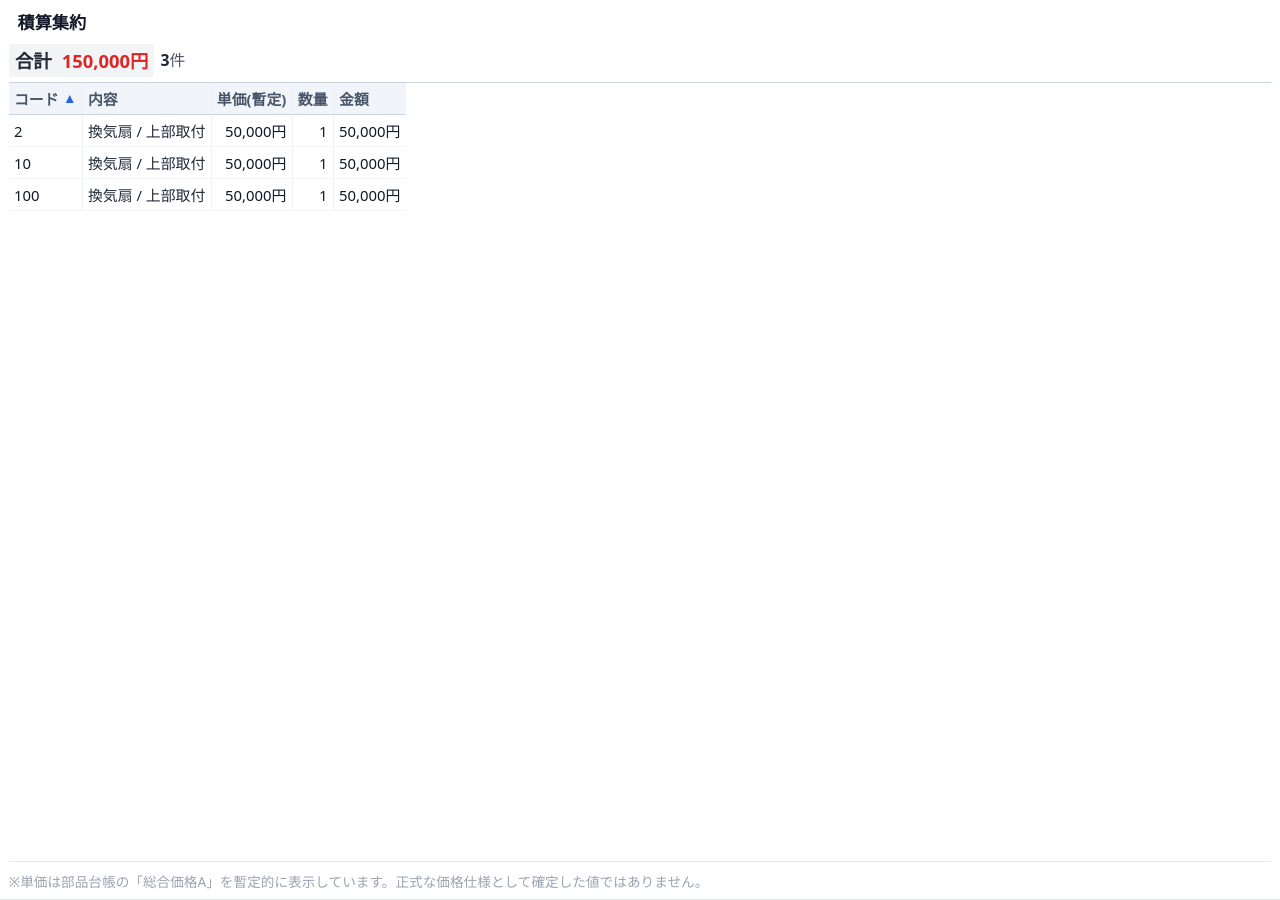
Test case: EstimateAggregation: ソート機能 (PR #2 追加修正指示: 積算集約テーブルにソート機能を追加) › sorts the code column numerically, not lexicographically (4章: "2" < "10" < "100")
Click the button with aria-label "コードでソート" at [45, 99], box x1=14 y1=88 x2=76 y2=110
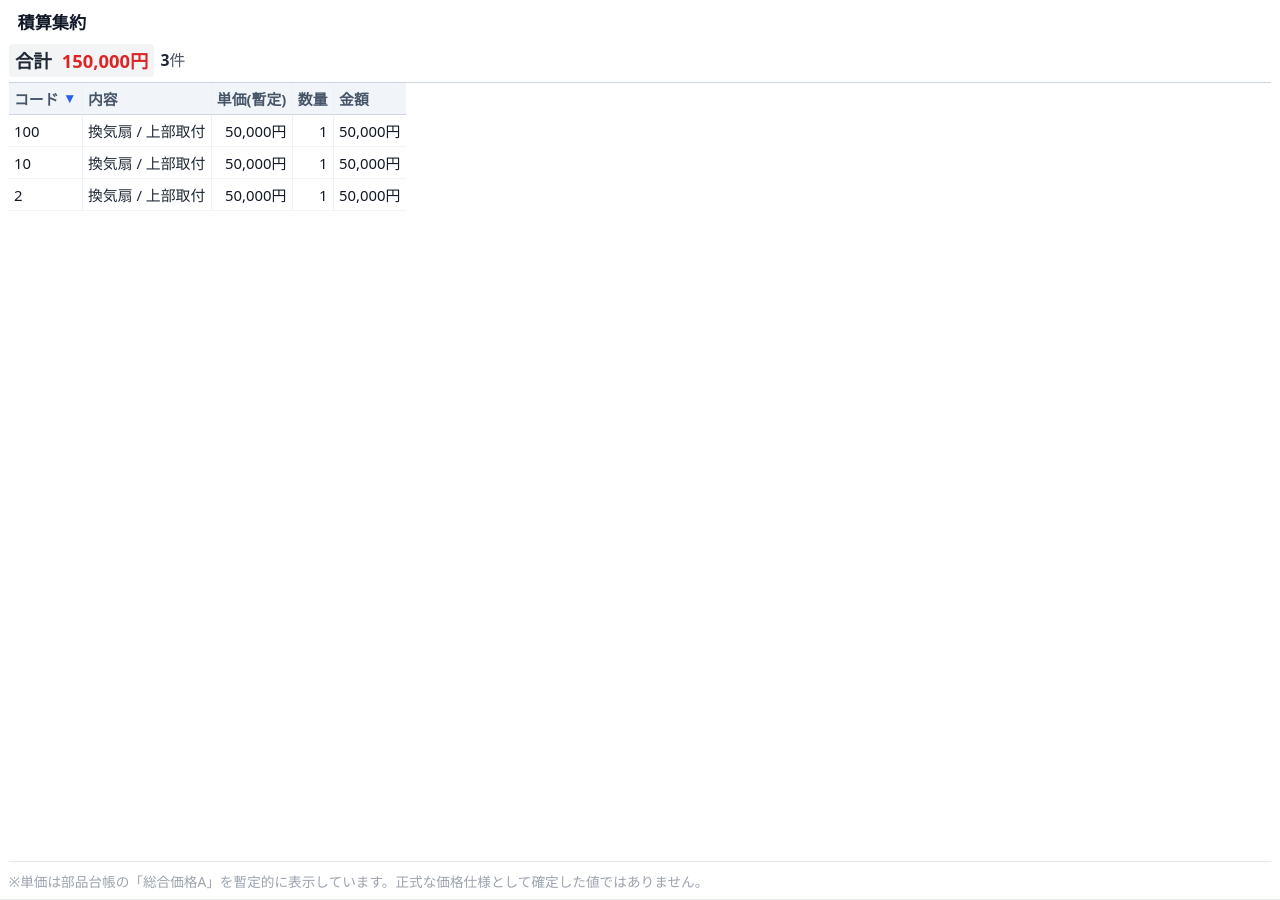
Now the button with aria-label "コードでソート" shows "▼", box x1=14 y1=88 x2=76 y2=110
